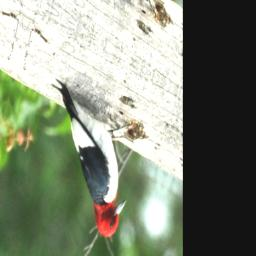Woodpecker: (30, 78, 142, 245)
